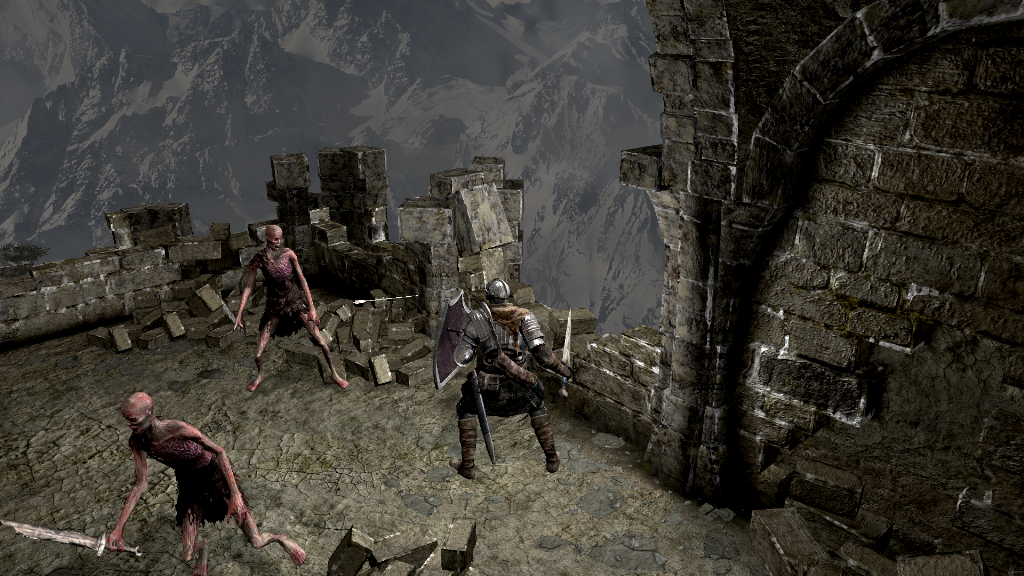hollow: (108, 390, 306, 576), (237, 224, 350, 393)
player: (432, 278, 576, 481)
